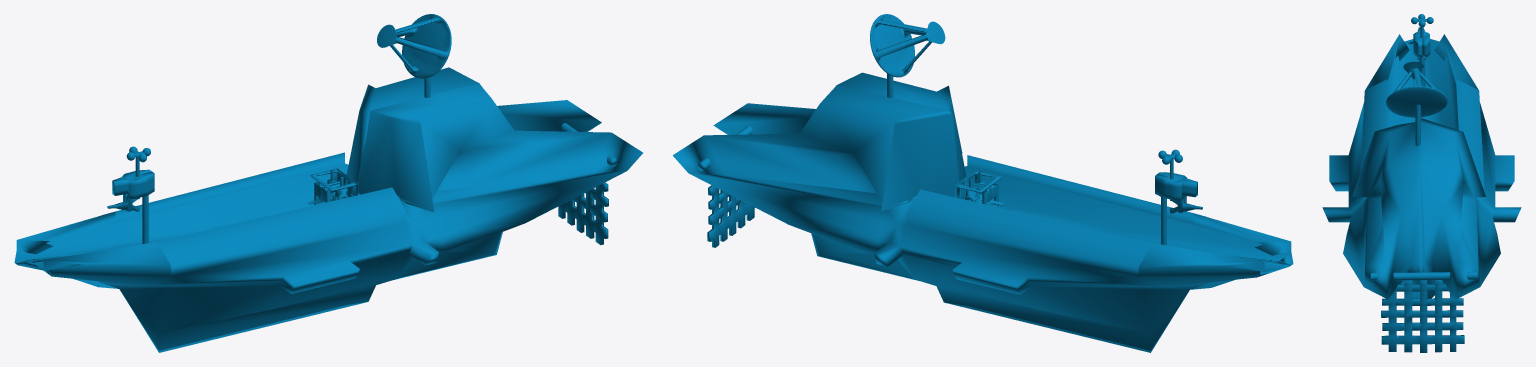
File: Ship_Blueprint.fbx
The picture shows the model from 3 angles, left to right: view 1: azimuth 30°, elevation 25°; view 2: azimuth 150°, elevation 25°; view 3: azimuth 270°, elevation 25°; orthographic projection. The views are drawn at different scales.
Parts seen in each view (by area): view 1: Ship_0010:pCube6, Satellite_Disk_GPS, fishing_net_0005:pCube2, group4, engine_0007:pCube6; view 2: Ship_0010:pCube6, Satellite_Disk_GPS, fishing_net_0005:pCube2, group4, engine_0007:pCube6; view 3: Ship_0010:pCube6, fishing_net_0005:pCube2, Satellite_Disk_GPS, group4.
Part boxes in pixels (x1,y1,x2,y2): Ship_0010:pCube6: (14, 67, 642, 352); Satellite_Disk_GPS: (377, 14, 451, 97); fishing_net_0005:pCube2: (558, 123, 617, 244); group4: (107, 146, 154, 243); engine_0007:pCube6: (307, 168, 358, 205); Ship_0010:pCube6: (673, 72, 1293, 352); Satellite_Disk_GPS: (870, 14, 945, 97); fishing_net_0005:pCube2: (697, 125, 754, 247); group4: (1155, 149, 1202, 245); engine_0007:pCube6: (954, 170, 1009, 209); Ship_0010:pCube6: (1322, 34, 1521, 299); fishing_net_0005:pCube2: (1370, 271, 1477, 352); Satellite_Disk_GPS: (1386, 61, 1447, 145); group4: (1411, 14, 1433, 86).
Bounding box in the file's own units: 35.28 × 15.3 × 12.15.
